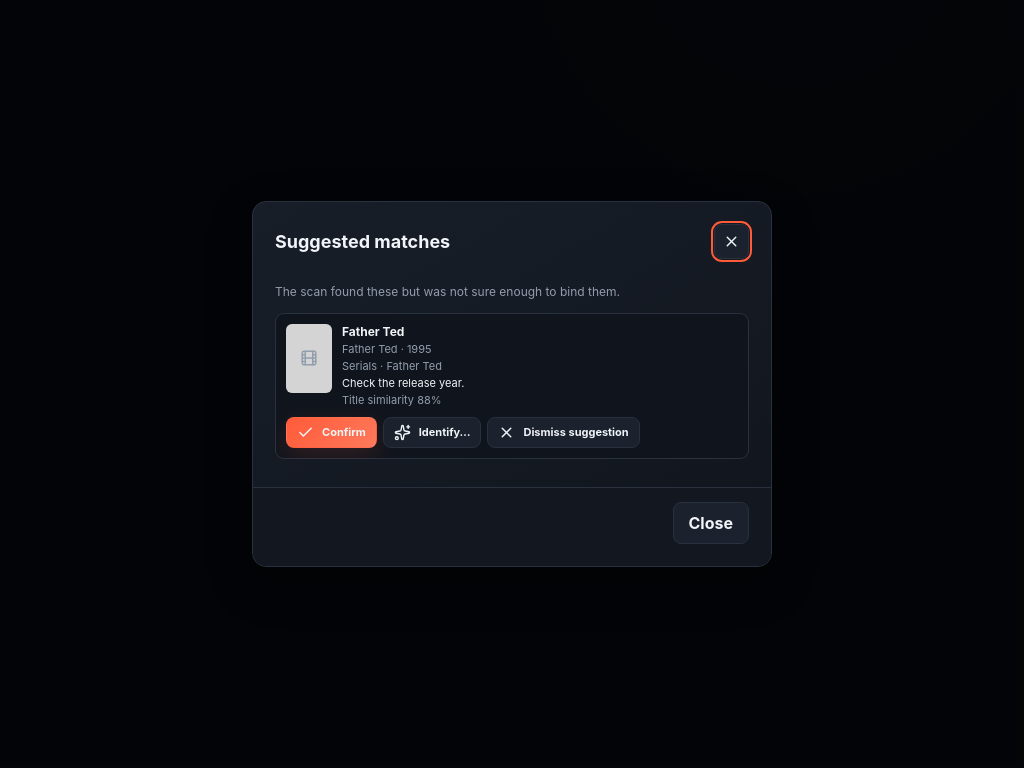
Test: SuggestionsDialog › confirms a suggestion and drops the row
This screenshot has width=1024, height=768.
Click the button "Confirm" at (331, 432), box [286,417,377,448]
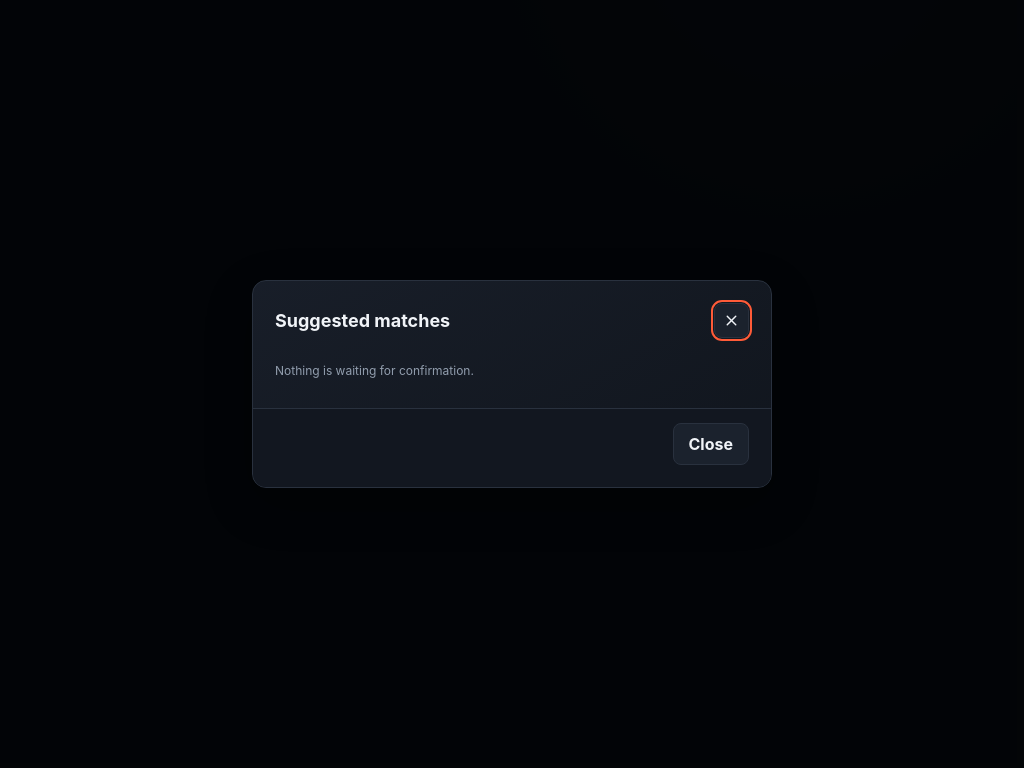
Now the text "Nothing is waiting" is shown, box [275,363,474,378]
